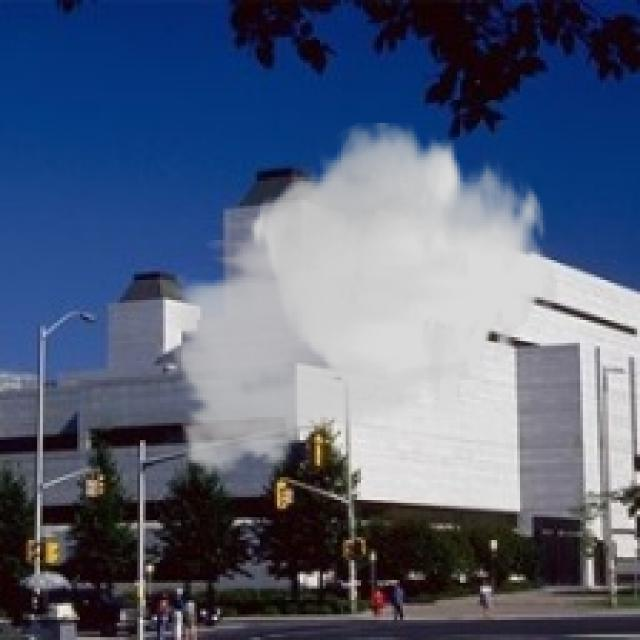Smoke: (157, 122, 560, 488)
